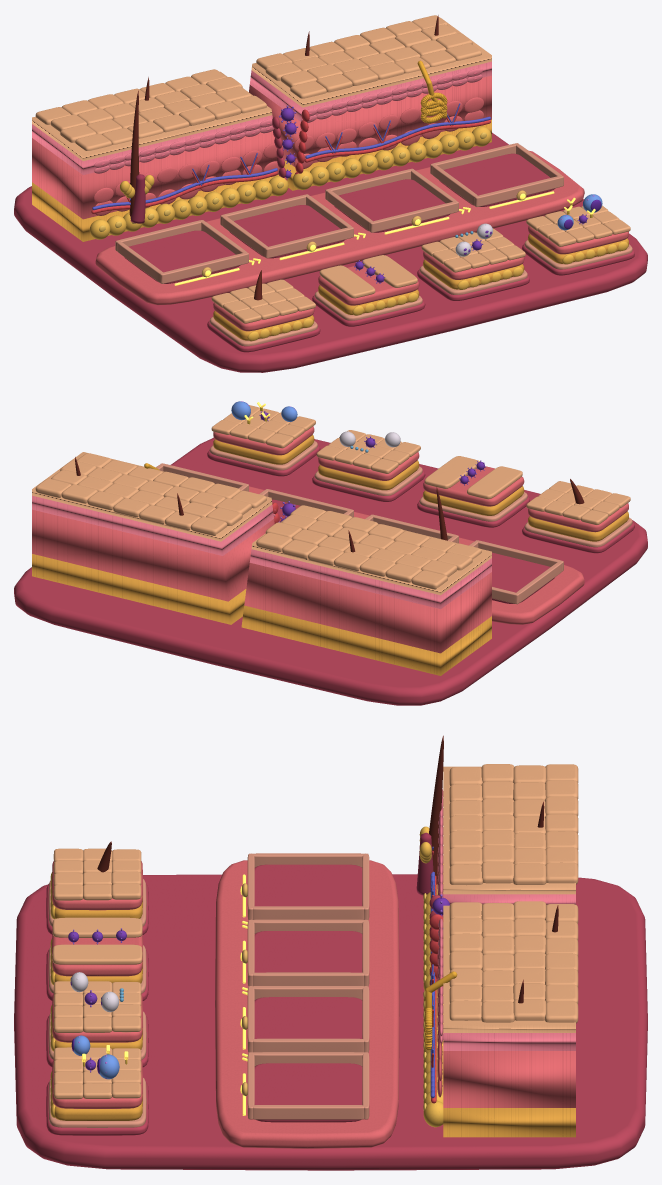
Rendered from barriers.glb.
3 renders of one model, top to bottom at view 1: azimuth 30°, elevation 25°; view 2: azimuth 150°, elevation 25°; view 3: azimuth 270°, elevation 25°, orthographic. The views are drawn at different scales.
Visible parts, largest first — view 1: fleshy, dermisskin, corneum, lipedge, epidermis, fatcell, fatshade, specimen_0_corneum, arteryred, specimen_2_corneum, specimen_3_corneum, specimen_1_corneum (+26 smaller); view 2: fleshy, dermisskin, corneum, fatshade, epidermis, lipedge, specimen_0_corneum, specimen_2_corneum, specimen_3_corneum, specimen_1_corneum, specimen_1_dermisskin, specimen_3_fatshade (+16 smaller); view 3: fleshy, corneum, dermisskin, lipedge, epidermis, specimen_0_corneum, fatshade, specimen_2_corneum, specimen_3_corneum, specimen_1_corneum, fatcell, specimen_1_dermisskin (+13 smaller).
Part boxes in pixels (bbox=[...]): fleshy: bbox=[14, 117, 647, 372]; dermisskin: bbox=[32, 75, 584, 305]; corneum: bbox=[32, 15, 491, 161]; lipedge: bbox=[115, 143, 563, 283]; epidermis: bbox=[32, 61, 491, 174]; fatcell: bbox=[89, 126, 491, 239]; fatshade: bbox=[32, 119, 491, 241]; specimen_0_corneum: bbox=[211, 279, 315, 323]; arteryred: bbox=[91, 107, 490, 213]; specimen_2_corneum: bbox=[421, 228, 525, 272]; specimen_3_corneum: bbox=[526, 205, 630, 246]; specimen_1_corneum: bbox=[319, 255, 417, 298]; fleshy: bbox=[14, 437, 647, 705]; dermisskin: bbox=[32, 486, 584, 653]; corneum: bbox=[32, 452, 491, 595]; fatshade: bbox=[32, 554, 491, 675]; epidermis: bbox=[32, 495, 491, 609]; lipedge: bbox=[156, 463, 563, 604]; specimen_0_corneum: bbox=[526, 481, 630, 525]; specimen_2_corneum: bbox=[316, 430, 420, 473]; specimen_3_corneum: bbox=[211, 405, 315, 448]; specimen_1_corneum: bbox=[424, 456, 522, 499]; specimen_1_dermisskin: bbox=[423, 466, 524, 506]; specimen_3_fatshade: bbox=[213, 434, 314, 464]; fleshy: bbox=[14, 864, 647, 1170]; corneum: bbox=[443, 764, 578, 1032]; dermisskin: bbox=[215, 851, 575, 1148]; lipedge: bbox=[247, 853, 369, 1119]; epidermis: bbox=[438, 789, 575, 1050]; specimen_0_corneum: bbox=[53, 848, 141, 900]; fatshade: bbox=[443, 1108, 575, 1137]; specimen_2_corneum: bbox=[53, 981, 141, 1032]; specimen_3_corneum: bbox=[53, 1047, 141, 1099]; specimen_1_corneum: bbox=[52, 917, 142, 964]; fatcell: bbox=[419, 826, 443, 1127]; specimen_1_dermisskin: bbox=[52, 931, 142, 976].
Size of the model in its own units: 23 by 7.86 by 22.
Materials: 56 (56 with a texture image).
